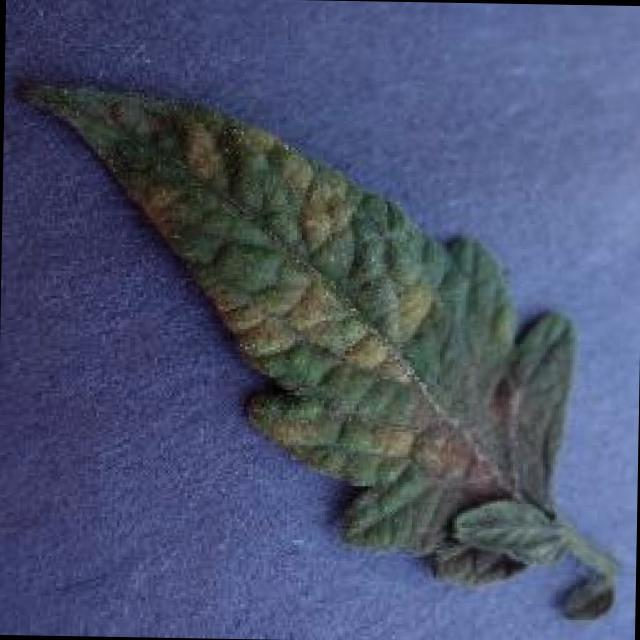Tomato mold leaf: (8, 75, 570, 586)
